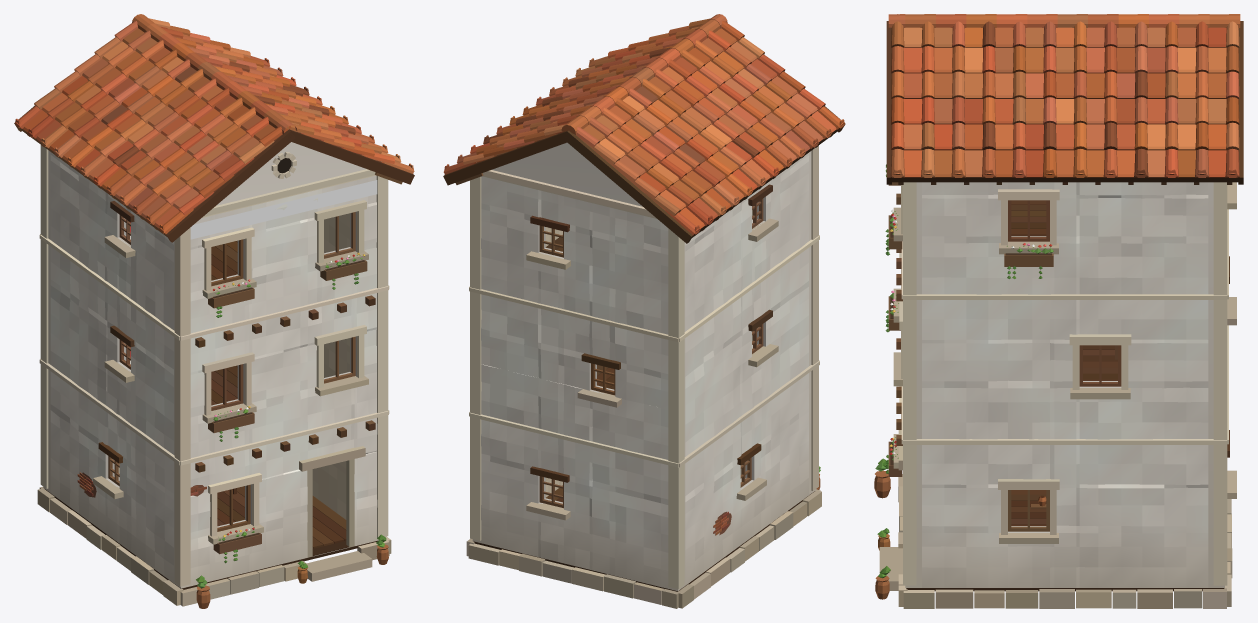
Rendered from pleb_2_3.glb.
3 renders of one model, left to right at view 1: azimuth 30°, elevation 25°; view 2: azimuth 150°, elevation 25°; view 3: azimuth 270°, elevation 25°, orthographic. The views are drawn at different scales.
Visible parts, largest first — view 1: House, Walls, Rooms, Frieze; view 2: Walls, House, Rooms; view 3: Walls, House, Rooms.
Boxes of the visible parts, x1,y1,x2,y2 form: House: [14, 14, 414, 608]; Walls: [43, 142, 378, 588]; Rooms: [118, 213, 349, 548]; Frieze: [190, 180, 377, 239]; Walls: [472, 142, 816, 591]; House: [443, 14, 845, 608]; Rooms: [545, 206, 752, 502]; Walls: [905, 182, 1224, 587]; House: [874, 14, 1243, 608]; Rooms: [1011, 200, 1117, 525].
Size of the model in its own units: 4.44 by 7.73 by 4.85.
4 materials, 4 textured.
